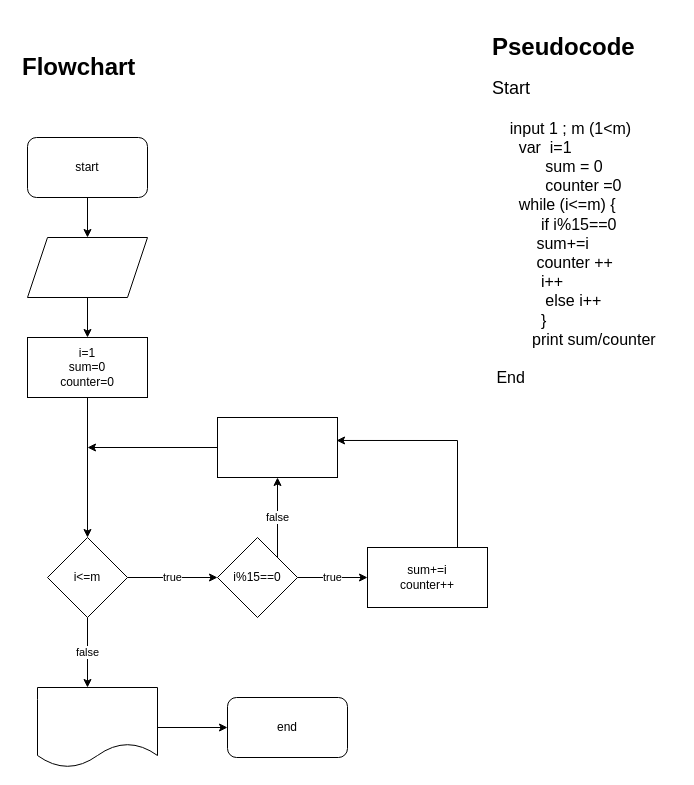
Some shapes in this 694 by 785 pixel diagram are drawn without their labels. The box of each missing label's shape, as (x1, y1, x2, y2) in pixels:
1 m (1<m): (26, 236, 148, 298)
i++: (216, 416, 338, 478)
sum/counter: (36, 686, 158, 768)
